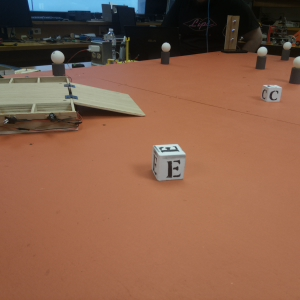obstacle: (50, 49, 67, 76), (290, 56, 300, 88), (256, 46, 268, 69), (280, 40, 292, 61), (162, 40, 172, 65)
side: (1, 111, 81, 132)
slope: (70, 82, 145, 119)
